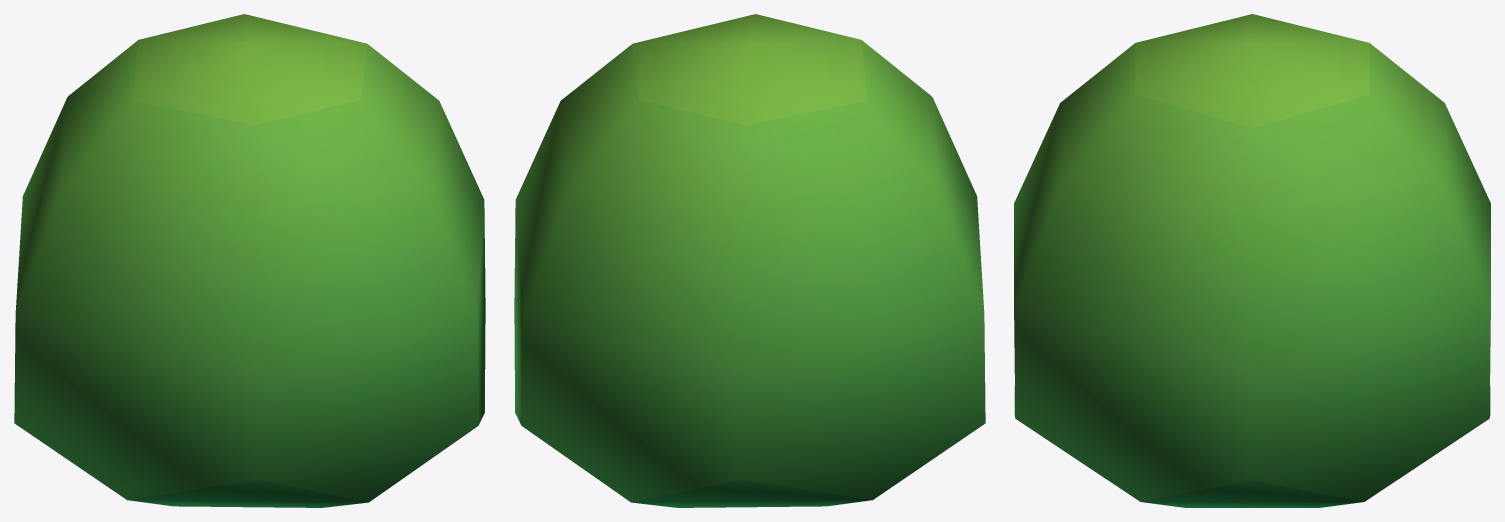
Rendered from Bush_1_A_Color1.gltf.
The picture shows the model from 3 angles, left to right: view 1: azimuth 30°, elevation 25°; view 2: azimuth 150°, elevation 25°; view 3: azimuth 270°, elevation 25°; orthographic projection.
Visible parts, largest first — view 1: Bush_1_A_Color1; view 2: Bush_1_A_Color1; view 3: Bush_1_A_Color1.
Part boxes in pixels (x1=…): Bush_1_A_Color1: x1=14, y1=14, x2=485, y2=507; Bush_1_A_Color1: x1=514, y1=14, x2=985, y2=507; Bush_1_A_Color1: x1=1014, y1=14, x2=1490, y2=507.
Size of the model in its own units: 0.2672 by 0.2267 by 0.2341.
1 material, 1 textured.
